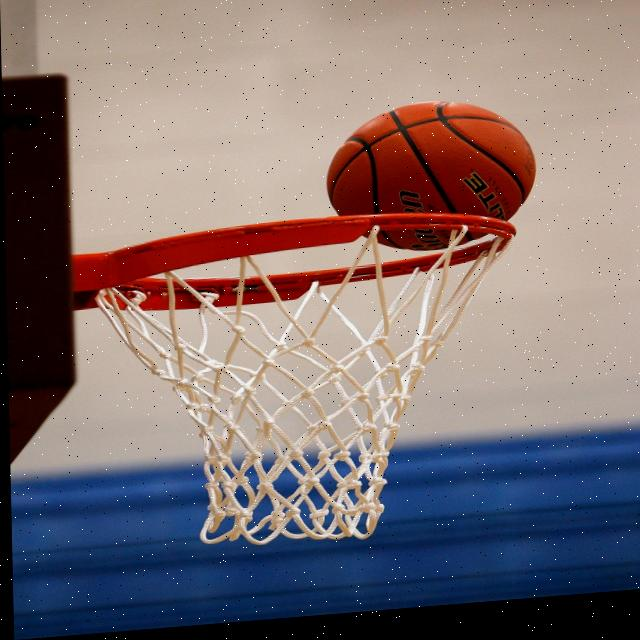rebound_hit: (324, 91, 538, 268)
